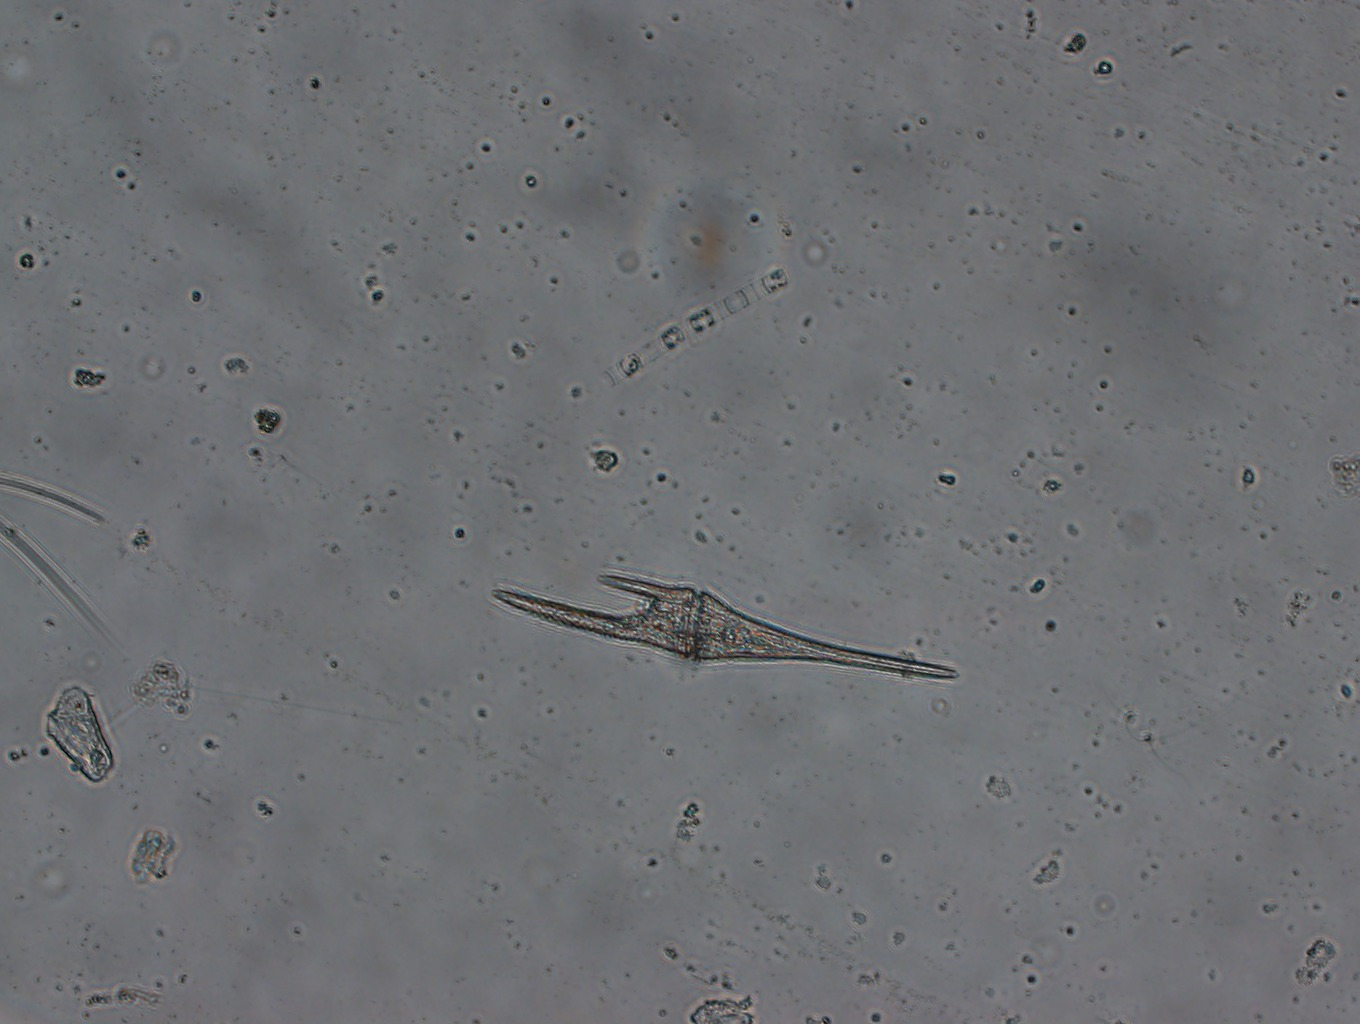ceratium furca: (490, 573, 960, 682)
skeletonema: (600, 265, 790, 387)
